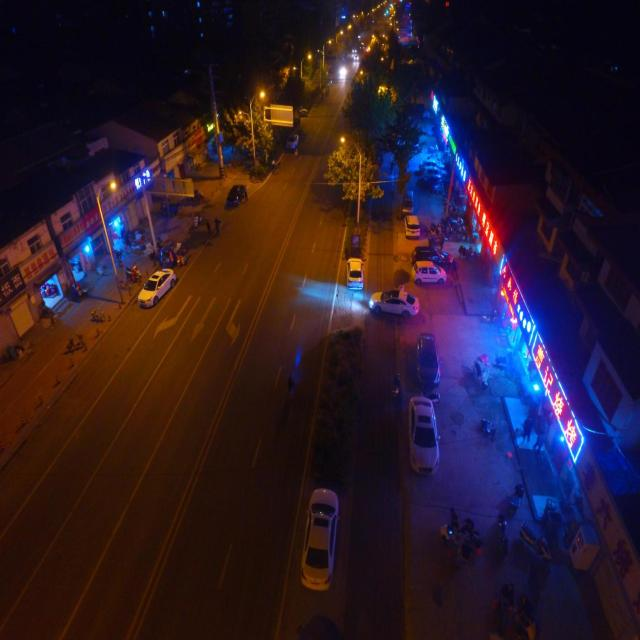car: (300, 487, 339, 591), (407, 395, 440, 476), (138, 268, 178, 308), (368, 286, 419, 317), (416, 332, 440, 387), (345, 258, 364, 289), (226, 184, 248, 208), (285, 133, 299, 152)
tree: (310, 325, 366, 484), (323, 138, 384, 225)
